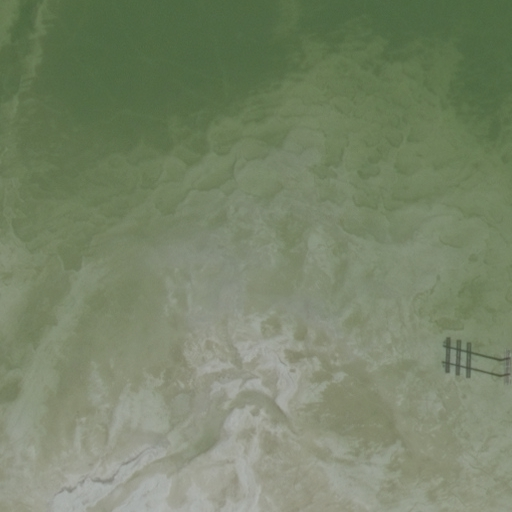TT: (489, 335, 512, 388)
